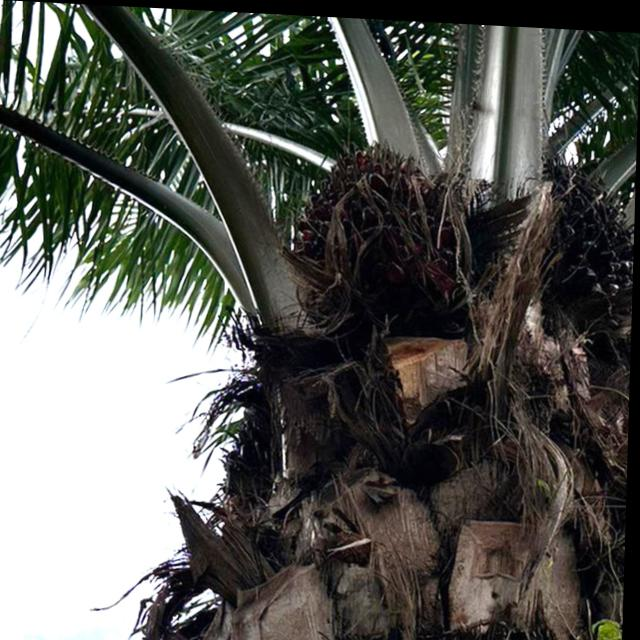ripe: (280, 127, 476, 320)
